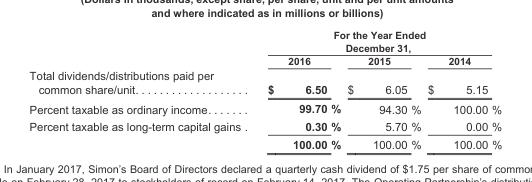table: (28, 28, 501, 150)
table column: (28, 28, 256, 150), (256, 28, 343, 150), (343, 28, 423, 150), (423, 28, 501, 150)
table column header: (28, 28, 501, 67)
table row: (28, 67, 501, 98), (28, 28, 501, 53), (28, 98, 501, 117), (28, 117, 501, 135), (28, 135, 501, 150), (28, 53, 501, 67)
table spanning cell: (256, 28, 501, 53)
